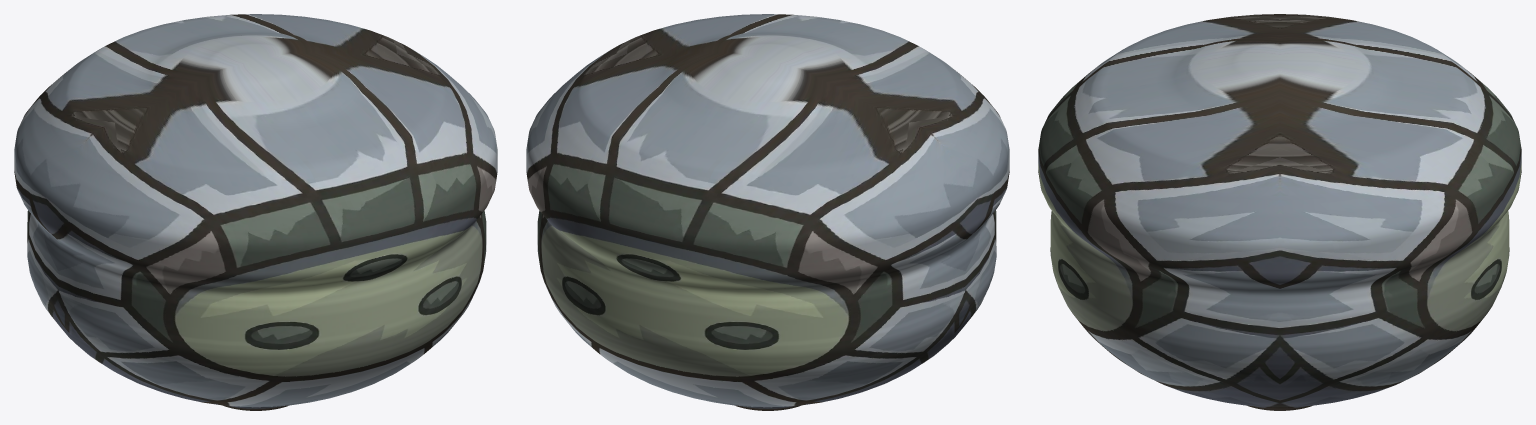
File: ring_platform.glb
3 views of the same model, side by side, from view 1: azimuth 30°, elevation 25°; view 2: azimuth 150°, elevation 25°; view 3: azimuth 270°, elevation 25° (orthographic).
Parts seen in each view (by area): view 1: ring_platform; view 2: ring_platform; view 3: ring_platform.
Boxes of the visible parts, x1,y1,x2,y2 form: ring_platform: [14, 14, 497, 410]; ring_platform: [526, 14, 1009, 410]; ring_platform: [1038, 14, 1521, 410].
Bounding box in the file's own units: 1 × 0.7523 × 1.
Materials: 1 (1 with a texture image).
